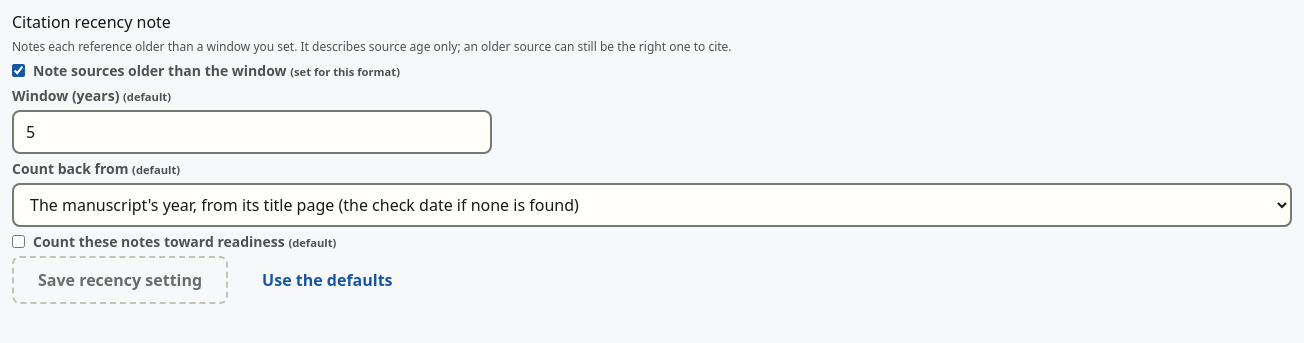
Test: the format's citation recency setting › refuses a window outside 1 to 100 before sending, and shows a server refusal at the window
Replace the text in the number field labelled "Window (years) (default)" with "0" at (252, 132), box [12,110,492,154]
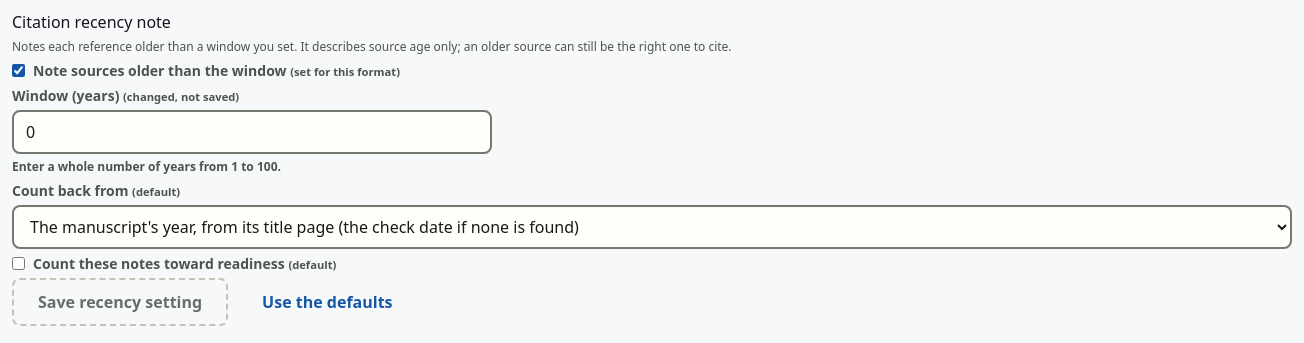
Expected: the button "Save recency setting" is disabled, [12,278,228,326]
Replace the text in the number field labelled "Window (years) (changed, not saved)" with "12" at (252, 132), box [12,110,492,154]
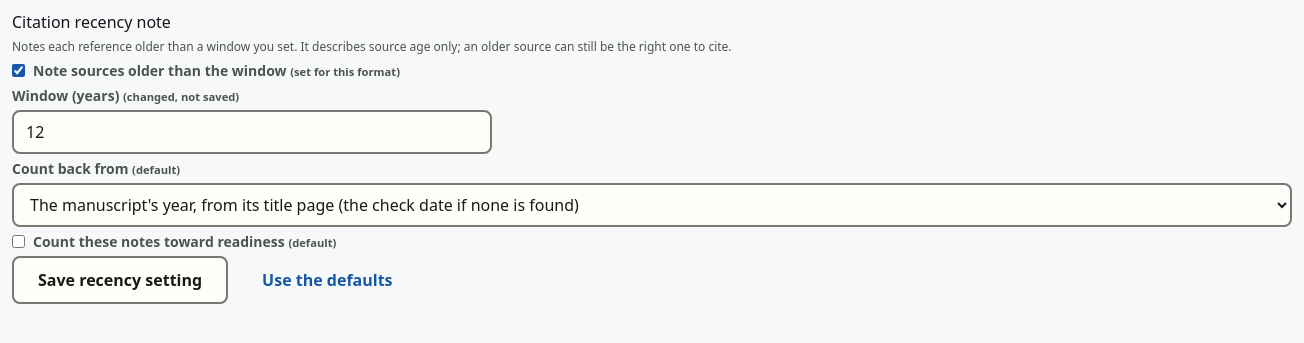
Click the button "Save recency setting" at (120, 280), box [12,256,228,304]
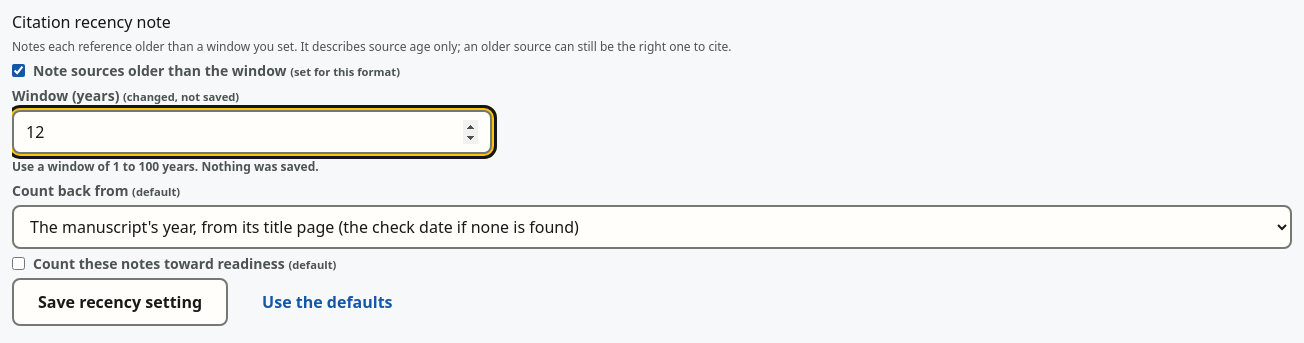
Expected: the text "Use a window of 1 to 100 years. Nothing was saved." is shown, [12,158,319,176]
